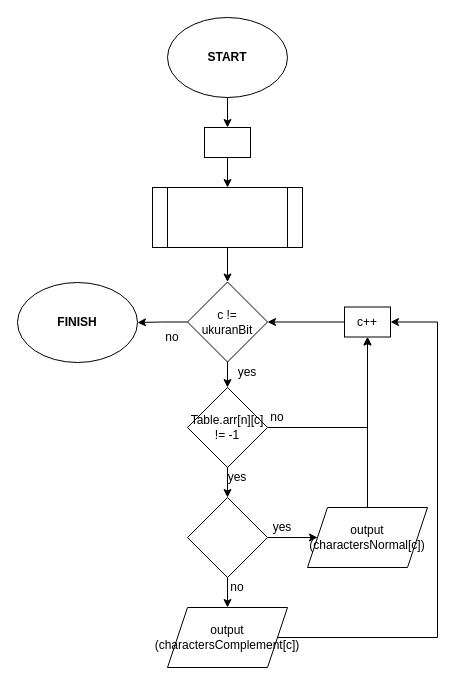
The diagram is 463 pixels wide and 685 high, and some of its shapes have lost their labels. The shapes that lost their labels are listed below. From the top down, each one's centre as x and y in pixels, then its label:
point (227, 142): c <- 0
point (227, 217): deklarasi characterNormal dan characterComplement
point (227, 537): Table.arr[n][c] =1 ?
